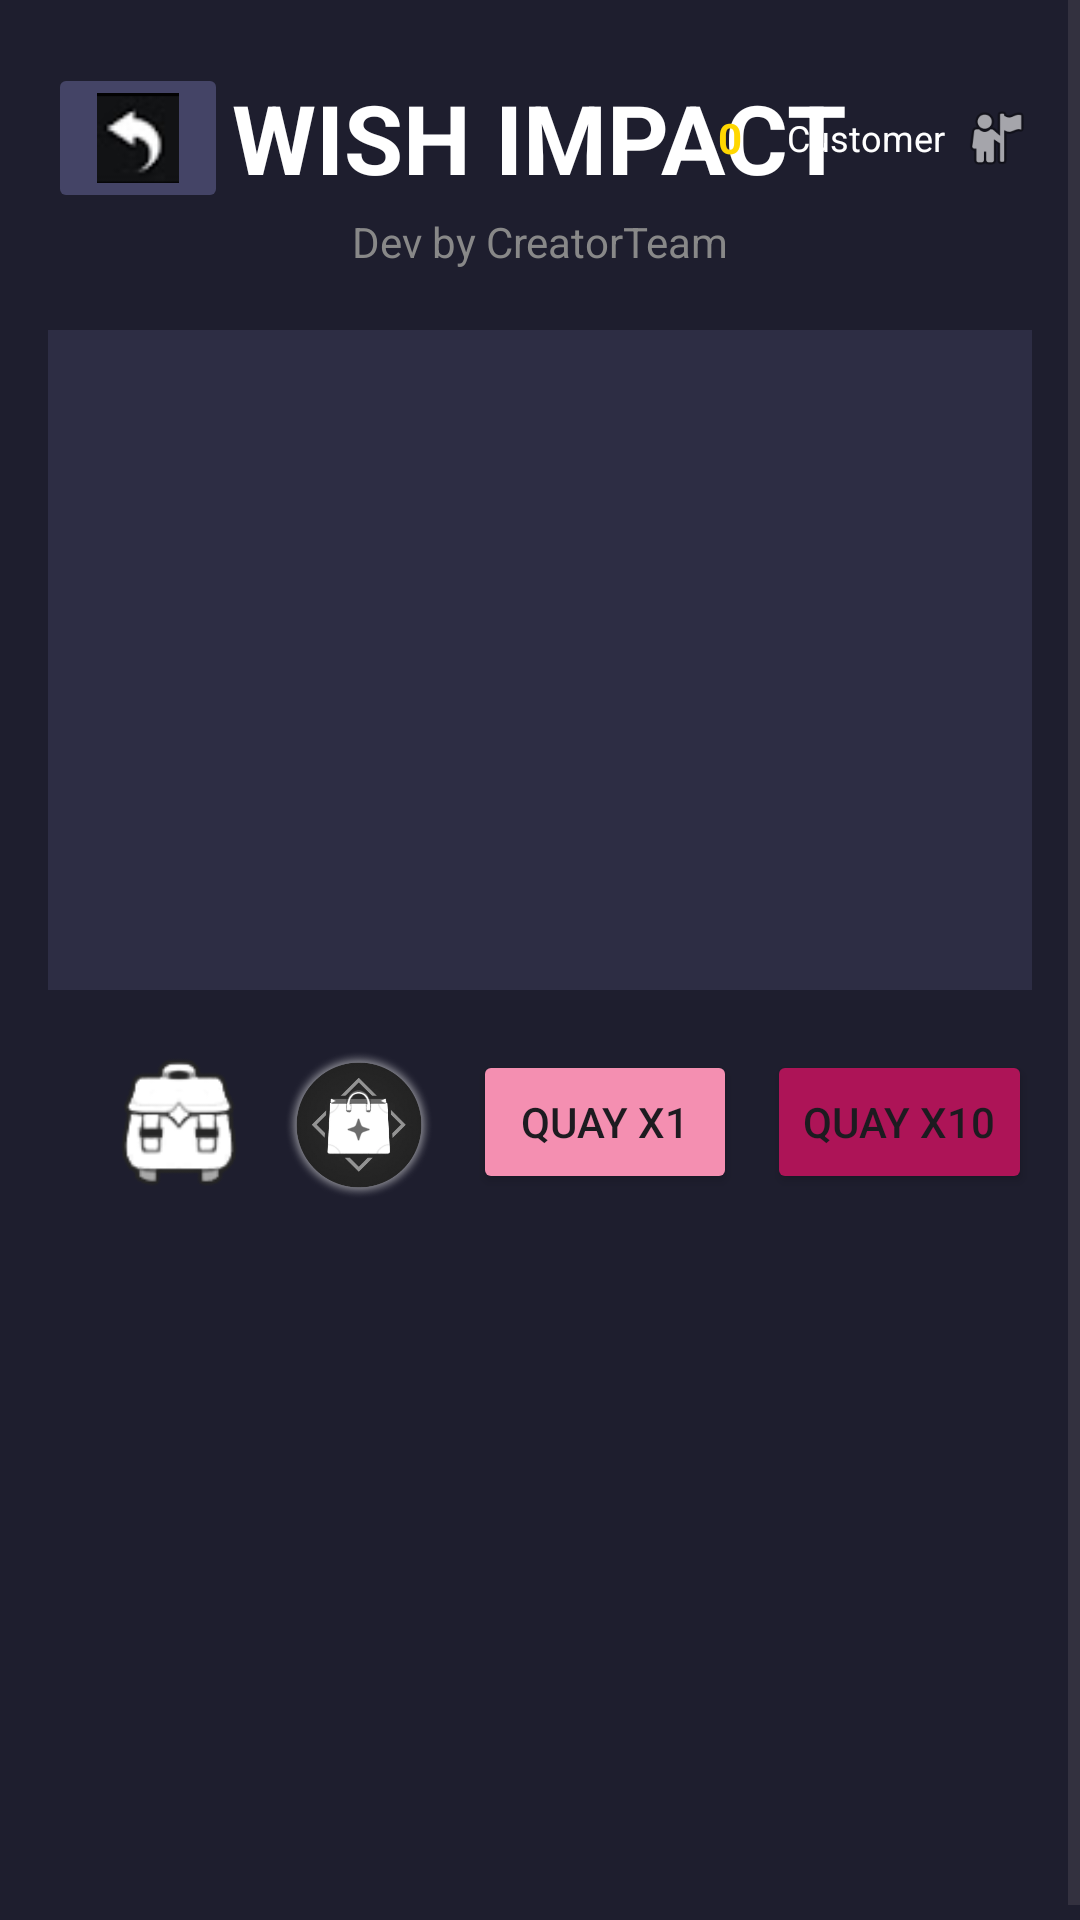

Icons on this 1080×1920 Android screen, each with its box as bbox(x1, y1, x2, y2):
back: bbox(60, 81, 216, 195)
inventory: bbox(125, 1062, 234, 1182)
myplaces: bbox(972, 113, 1022, 163)
shop: bbox(288, 1054, 430, 1196)
